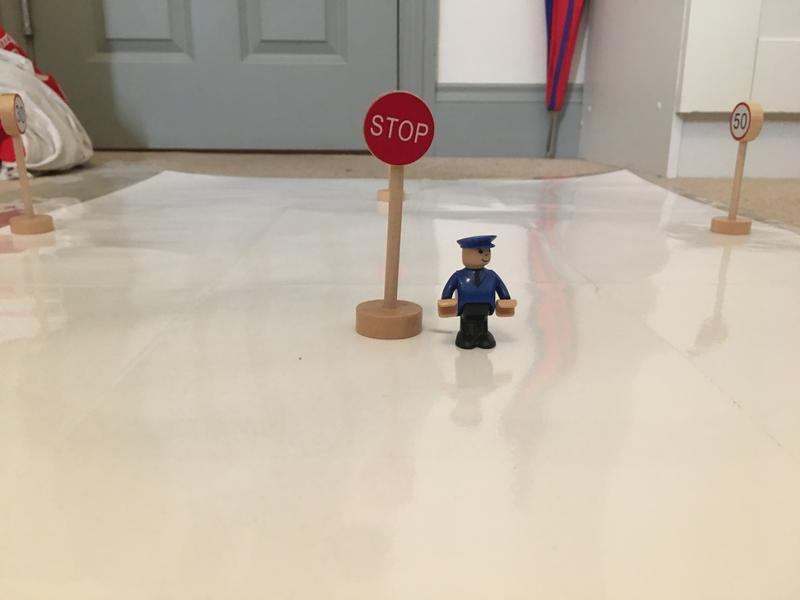Traffic_Sign_50: (728, 101, 753, 140)
Traffic_Sign_Stop: (362, 91, 435, 166)
person: (434, 235, 519, 353)
